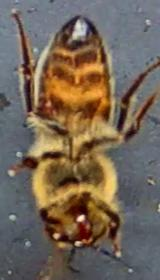varroa_mite: (25, 89, 75, 126)
